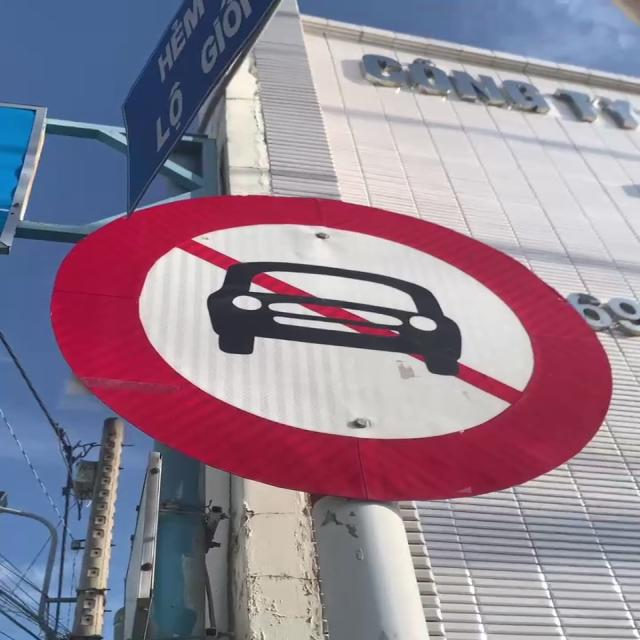Cam_O_To: (55, 195, 612, 506)
